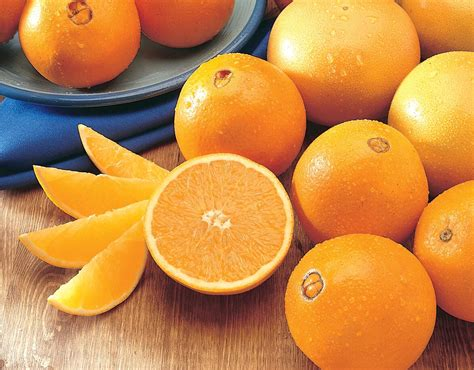orange: (280, 232, 439, 370), (172, 51, 309, 180), (294, 113, 428, 240)
